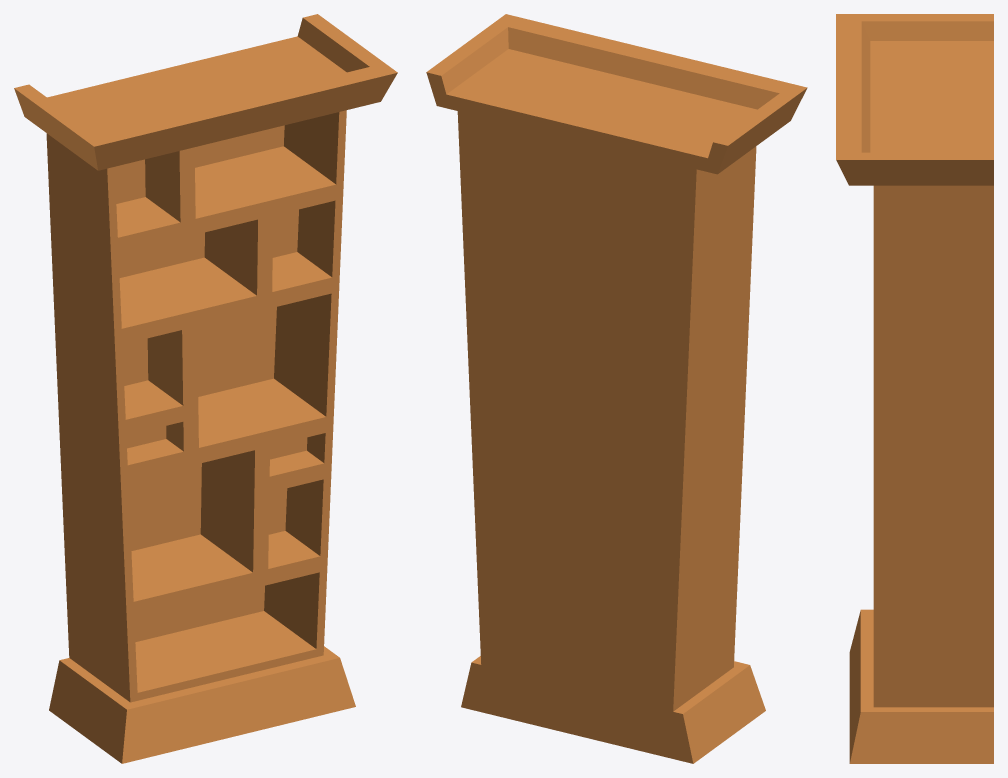
Rendered from Prop_BookShelf.FBX.
3 views of the same model, side by side, from view 1: azimuth 30°, elevation 25°; view 2: azimuth 150°, elevation 25°; view 3: azimuth 270°, elevation 25° (orthographic).
Parts seen in each view (by area): view 1: Box001; view 2: Box001; view 3: Box001.
Boxes of the visible parts, left/top/right/bottom form: Box001: left=14, top=14, right=397, bottom=763; Box001: left=426, top=14, right=807, bottom=763; Box001: left=836, top=14, right=993, bottom=763.
Bounding box in the file's own units: 100 × 199 × 45.91.
1 material, 1 textured.
